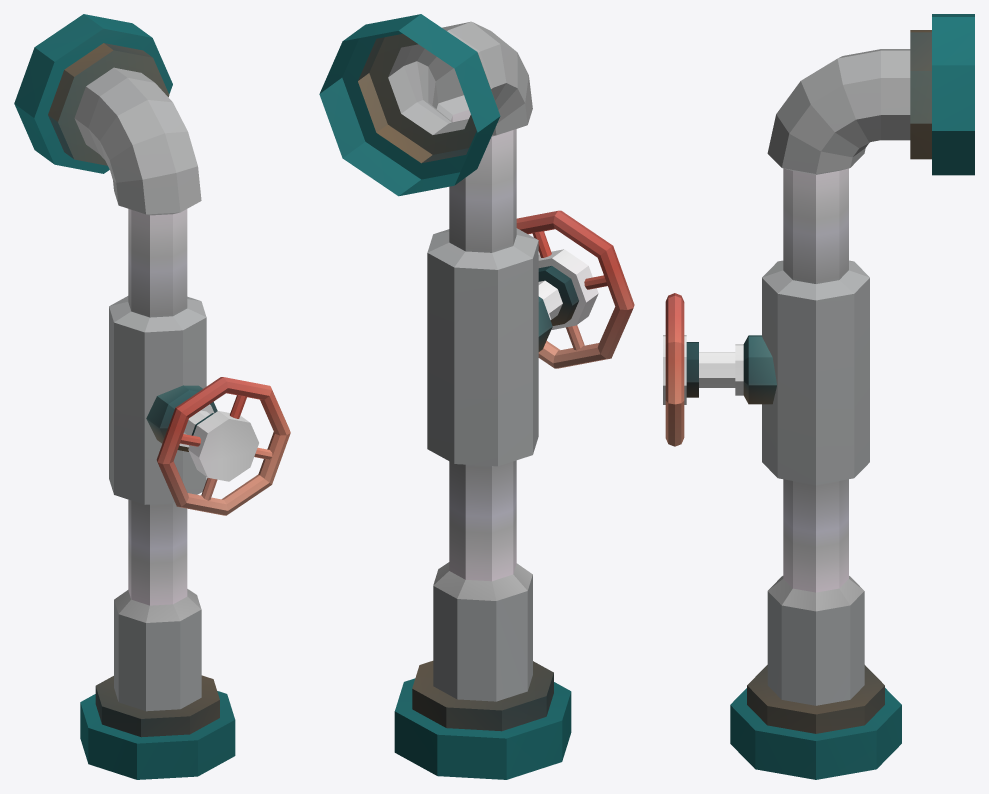
File: Pipe_L_shaped_valve.fbx
3 views of the same model, side by side, from view 1: azimuth 30°, elevation 25°; view 2: azimuth 150°, elevation 25°; view 3: azimuth 270°, elevation 25° (orthographic). The views are drawn at different scales.
Visible parts, largest first — view 1: Pipe_L_shaped_valve; view 2: Pipe_L_shaped_valve; view 3: Pipe_L_shaped_valve.
Part boxes in pixels (bbox=[...]): Pipe_L_shaped_valve: bbox=[14, 14, 290, 779]; Pipe_L_shaped_valve: bbox=[319, 14, 634, 779]; Pipe_L_shaped_valve: bbox=[663, 14, 974, 779].
Size of the model in its own units: 32.45 by 152 by 58.92.
